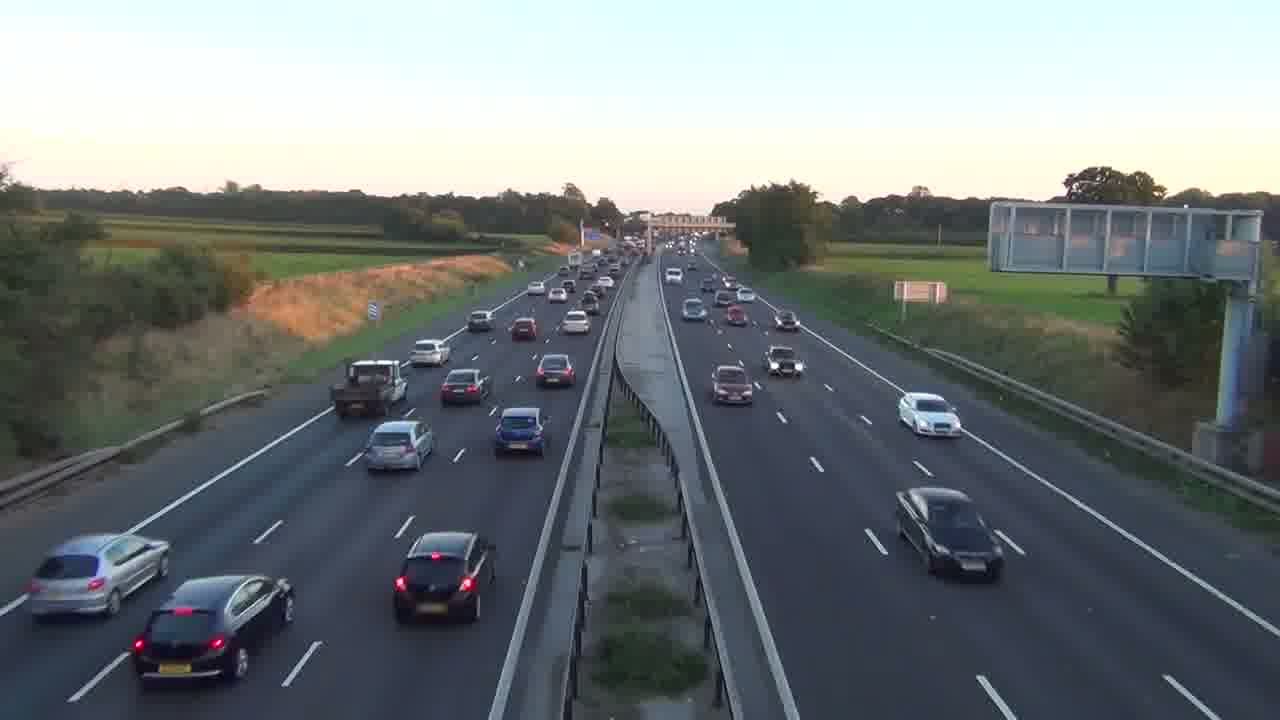car: (130, 573, 297, 688), (26, 532, 171, 622), (894, 485, 1005, 582), (391, 529, 498, 625), (364, 419, 435, 472), (896, 391, 963, 439), (493, 406, 547, 455), (709, 363, 754, 406), (439, 368, 486, 406), (534, 352, 575, 388), (764, 344, 806, 378), (510, 317, 538, 341)
truck: (329, 359, 407, 420)
